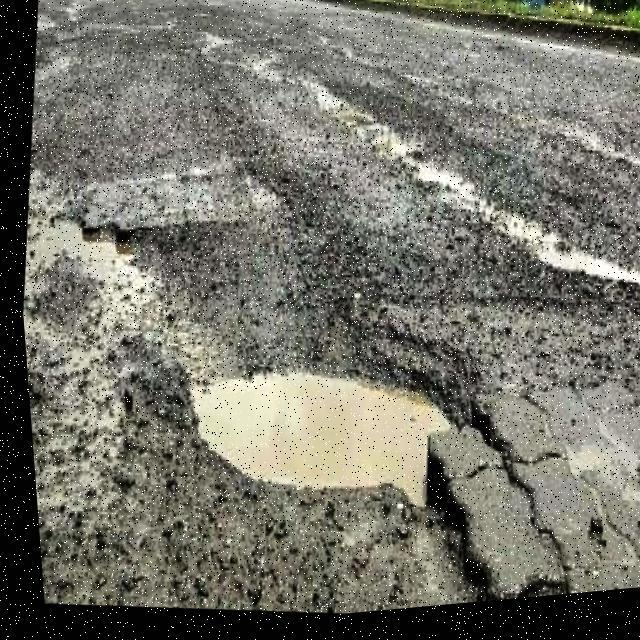pothole: (162, 340, 458, 540), (12, 200, 172, 327)
